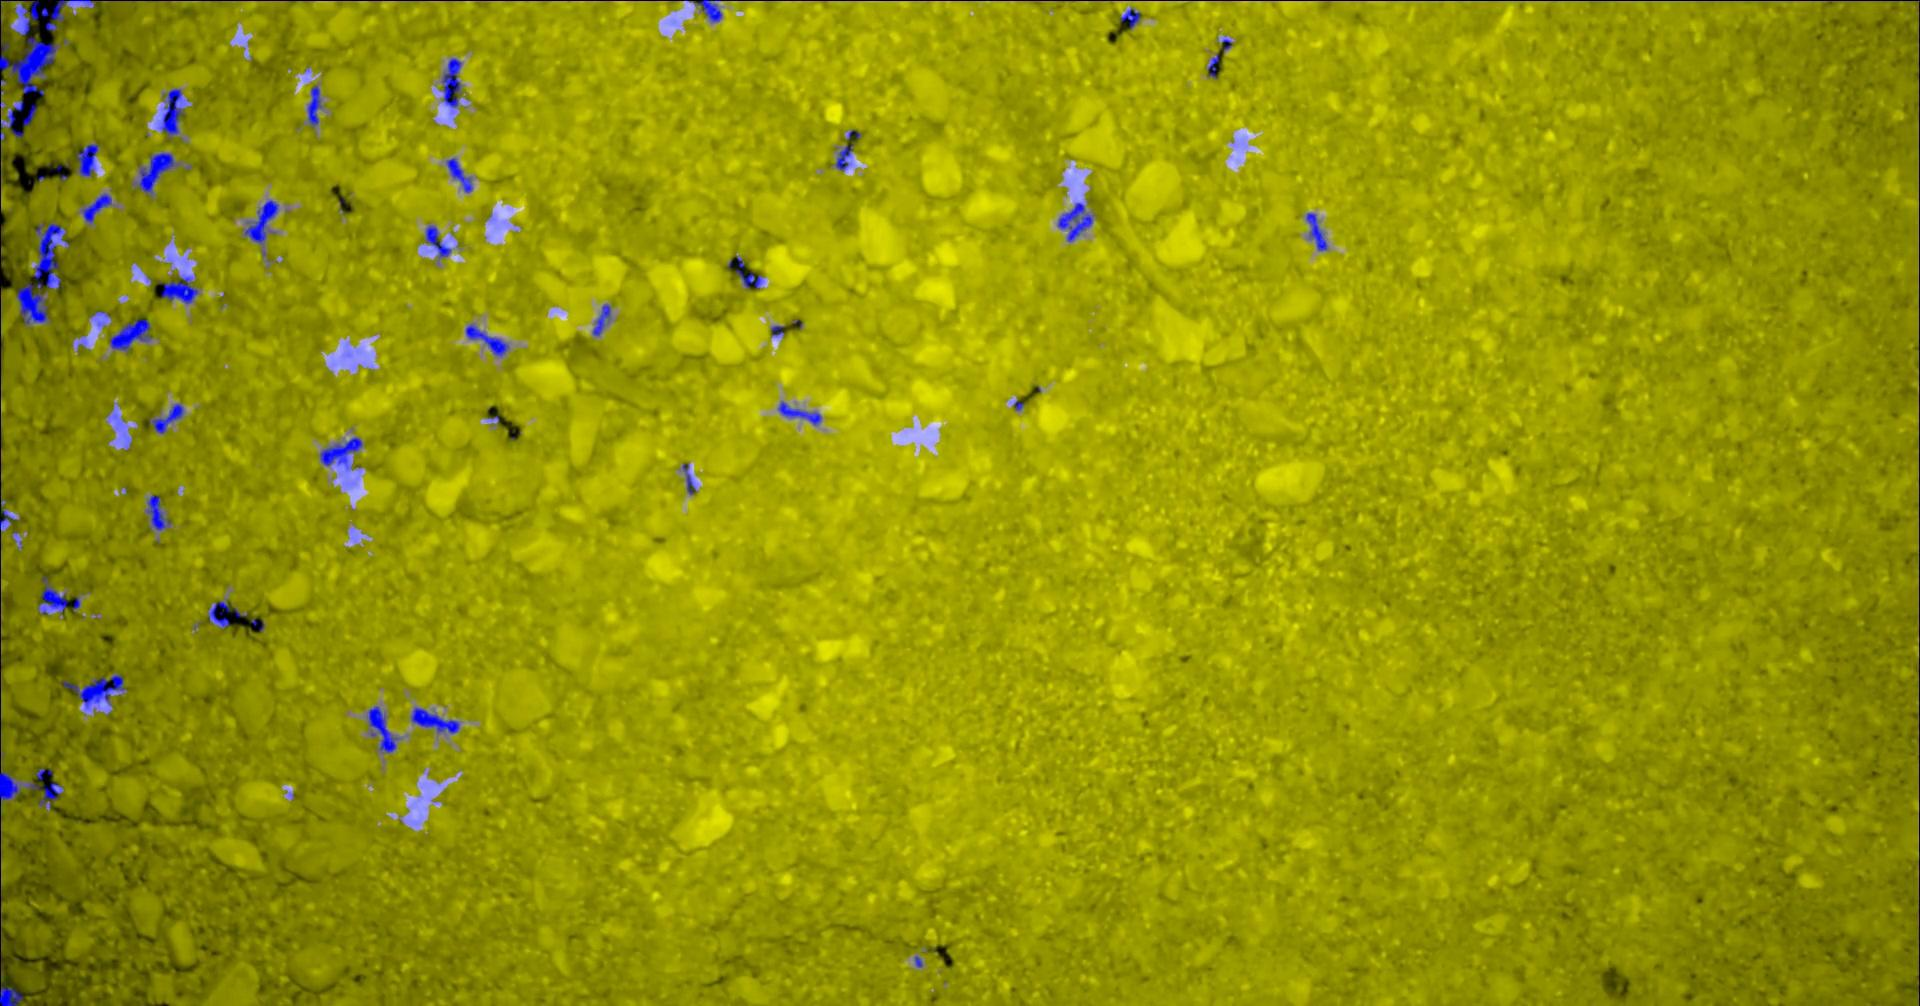ant: (62, 674, 124, 708), (244, 199, 278, 244), (366, 705, 397, 752), (138, 152, 174, 194), (1057, 202, 1092, 241), (109, 318, 151, 351), (319, 437, 362, 469), (465, 324, 508, 354), (410, 708, 458, 733), (159, 88, 184, 135), (37, 575, 67, 614), (157, 276, 197, 304), (207, 600, 248, 626), (149, 403, 183, 433), (777, 401, 822, 424), (441, 57, 461, 107), (27, 781, 62, 809), (446, 158, 472, 192), (146, 494, 170, 530), (81, 193, 110, 222), (1305, 212, 1327, 250), (735, 257, 761, 288), (425, 225, 450, 257), (0, 765, 20, 801), (76, 142, 98, 177), (0, 972, 22, 1005), (692, 0, 723, 22), (6, 99, 23, 137), (306, 85, 321, 124), (592, 304, 610, 335), (0, 495, 14, 532), (836, 144, 852, 170), (1120, 8, 1140, 29), (682, 464, 695, 494), (22, 103, 36, 124), (1208, 53, 1219, 77), (36, 767, 52, 780), (770, 325, 783, 335)
